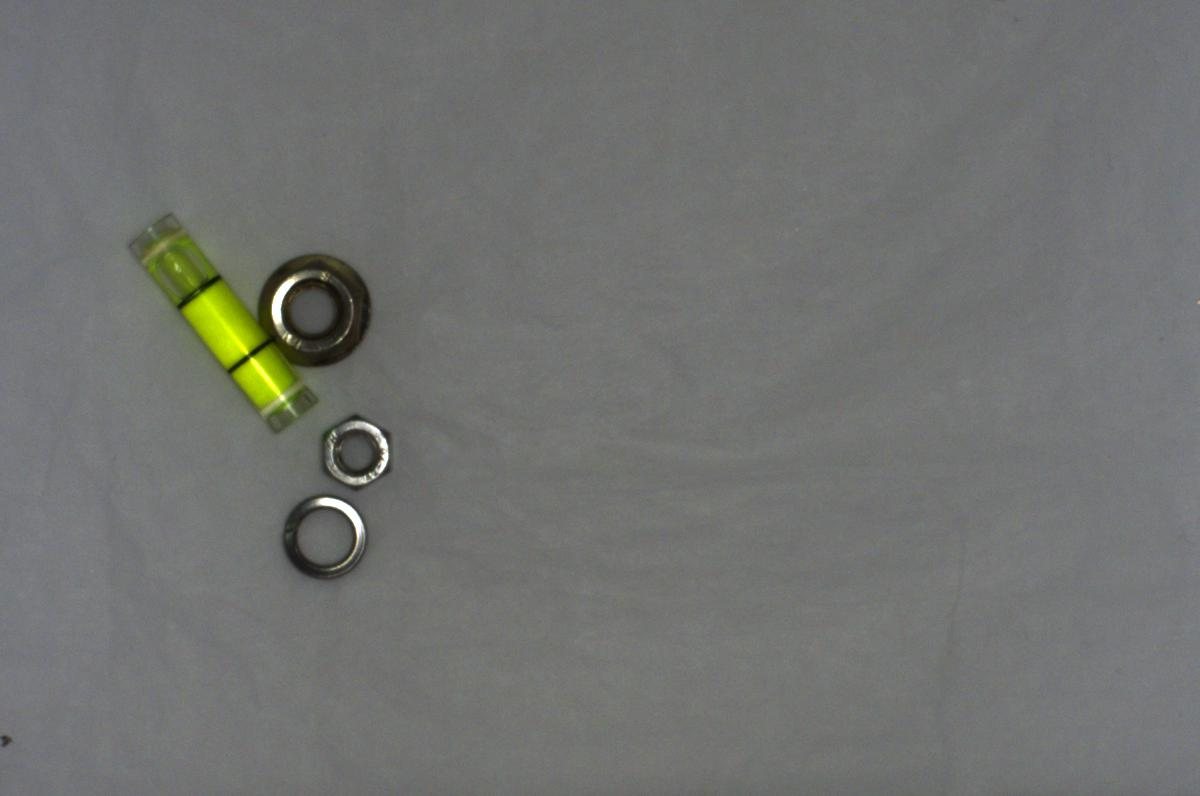Flange nut: (245, 247, 385, 373)
Hexagon nut: (312, 410, 393, 490)
Horizontal bubble: (121, 212, 315, 430)
Spring washer: (270, 492, 372, 583)
